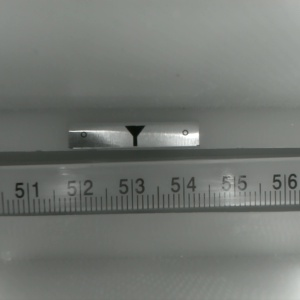2: (82, 180, 93, 195)
3: (134, 178, 144, 194)
4: (185, 177, 196, 192)
5: (271, 173, 281, 190), (118, 178, 128, 194), (237, 175, 247, 191), (221, 175, 231, 191), (66, 181, 76, 196), (14, 183, 24, 198), (170, 177, 179, 192)
6: (287, 173, 297, 189)
finger: (122, 126, 145, 147)
